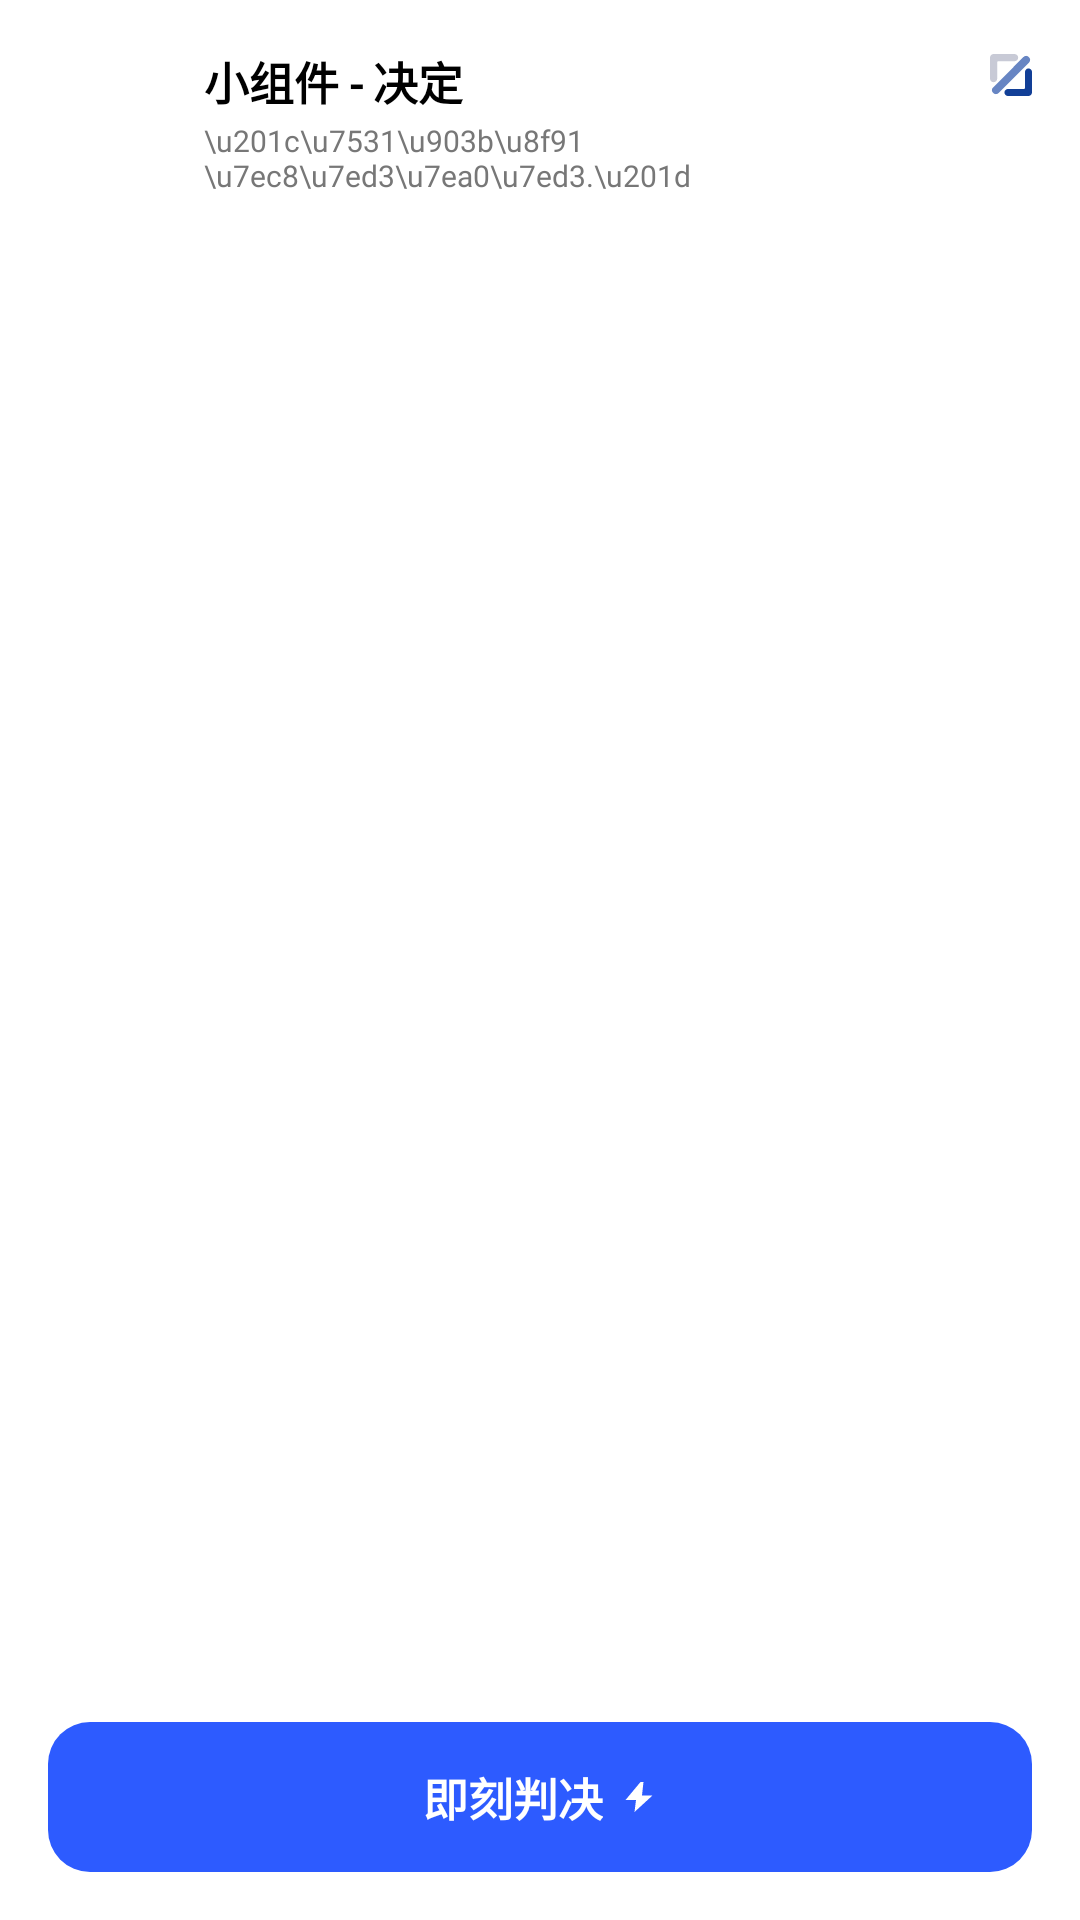

Where icons sit on this 1080x1920 app screen, as (x1=x1, y1=y1, x2=x2, y2=y2):
widget lightning: (x1=625, y1=1782, x2=652, y2=1812)
